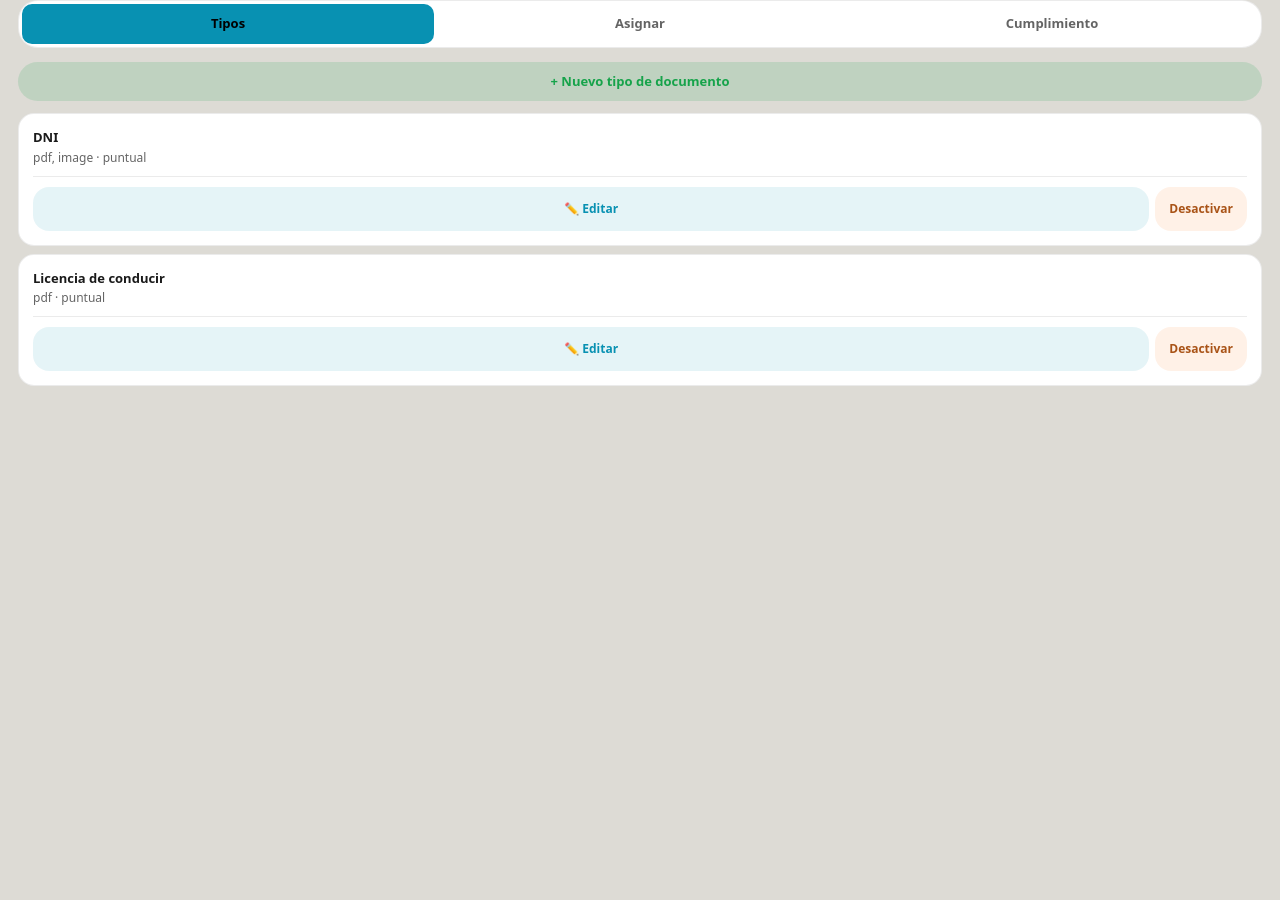
Scenario: DocumentosEmpleadoScreen — error en el DELETE de desasignación muestra el toast de error sin perder la selección pendiente
Click the button "Asignar": {"x": 640, "y": 24} top-left (434, 4), bottom-right (846, 44)
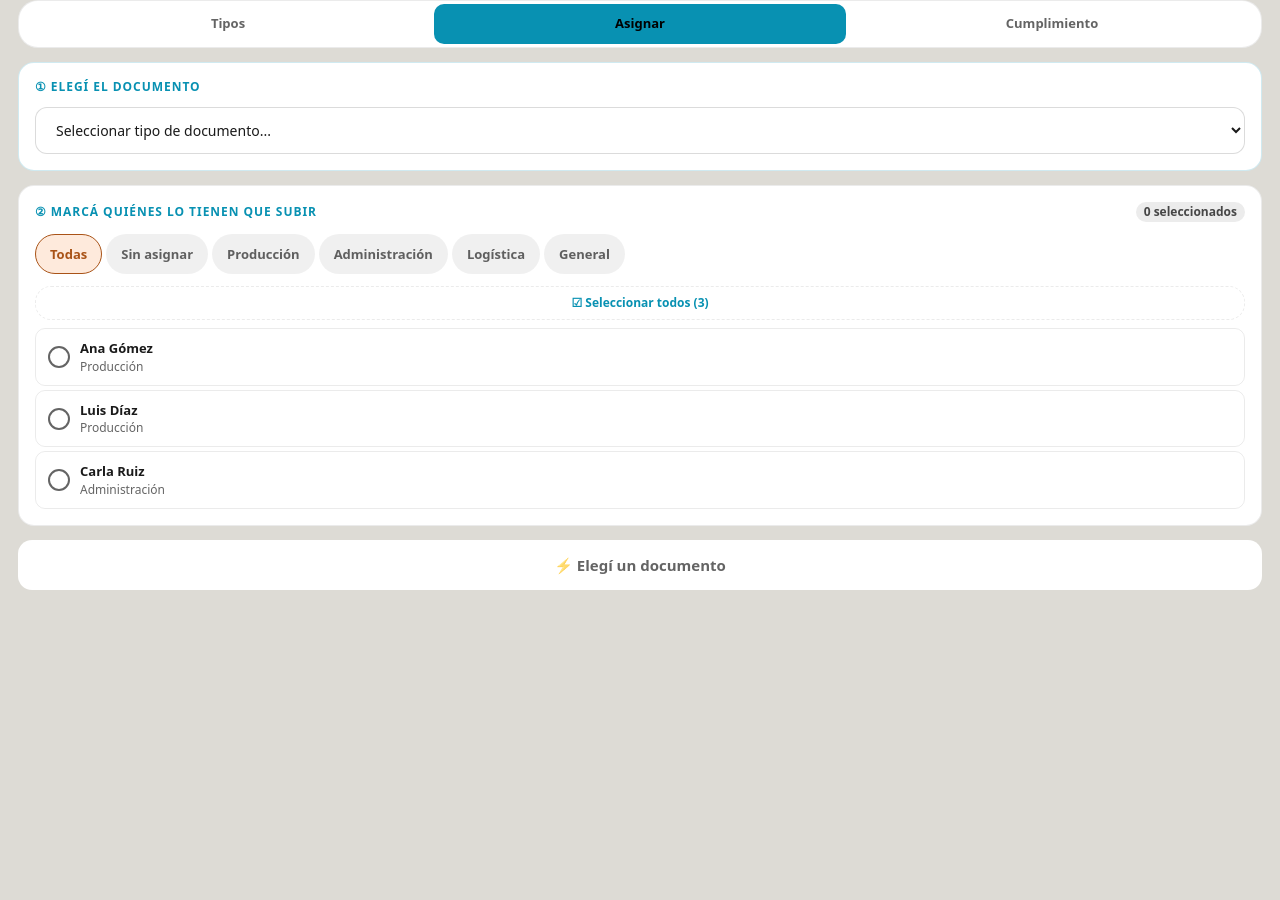
Select "DNI" in the dropdown: {"x": 640, "y": 130} top-left (35, 106), bottom-right (1245, 154)
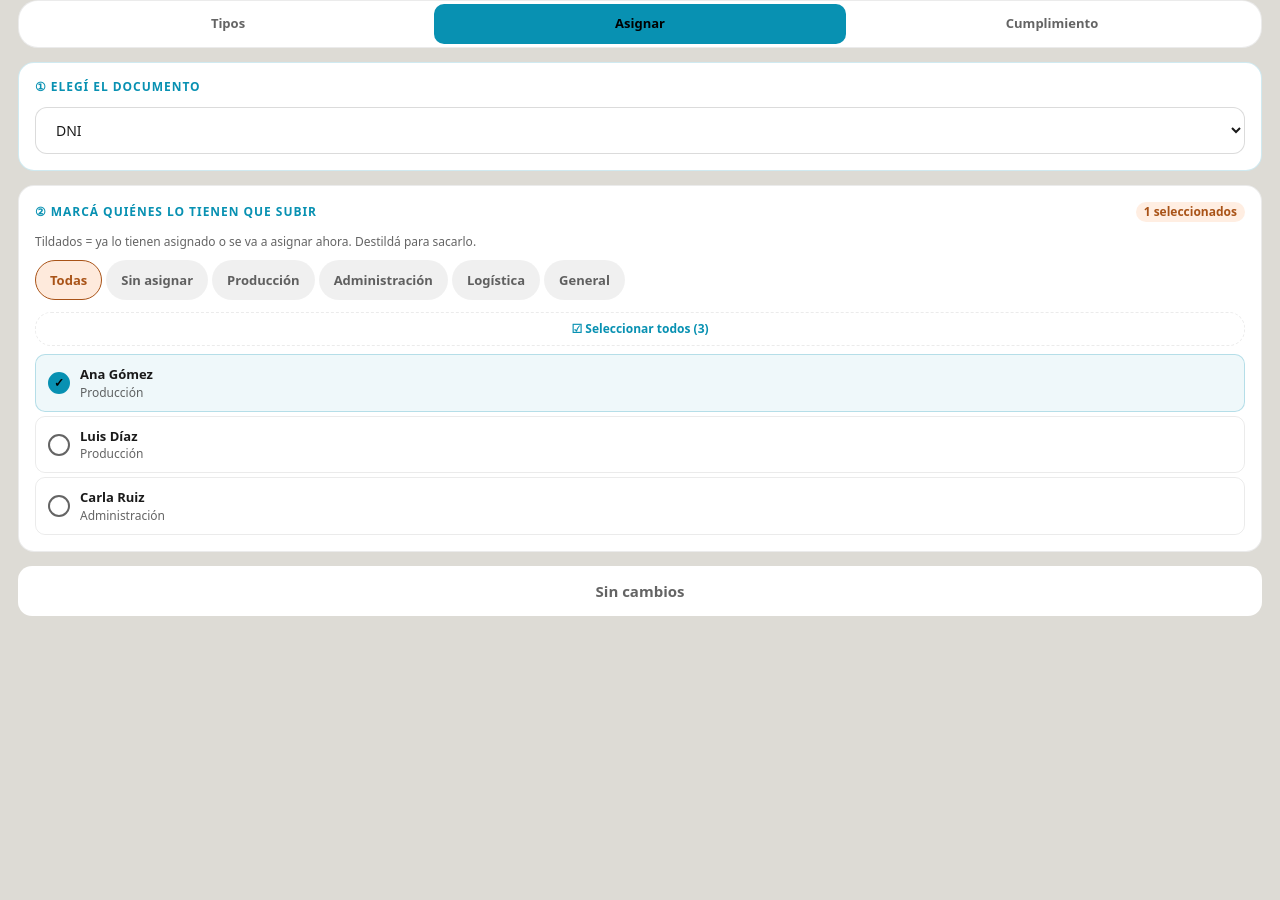
Click the button "✓ Ana Gómez Producción": {"x": 116, "y": 374} top-left (35, 354), bottom-right (1245, 412)
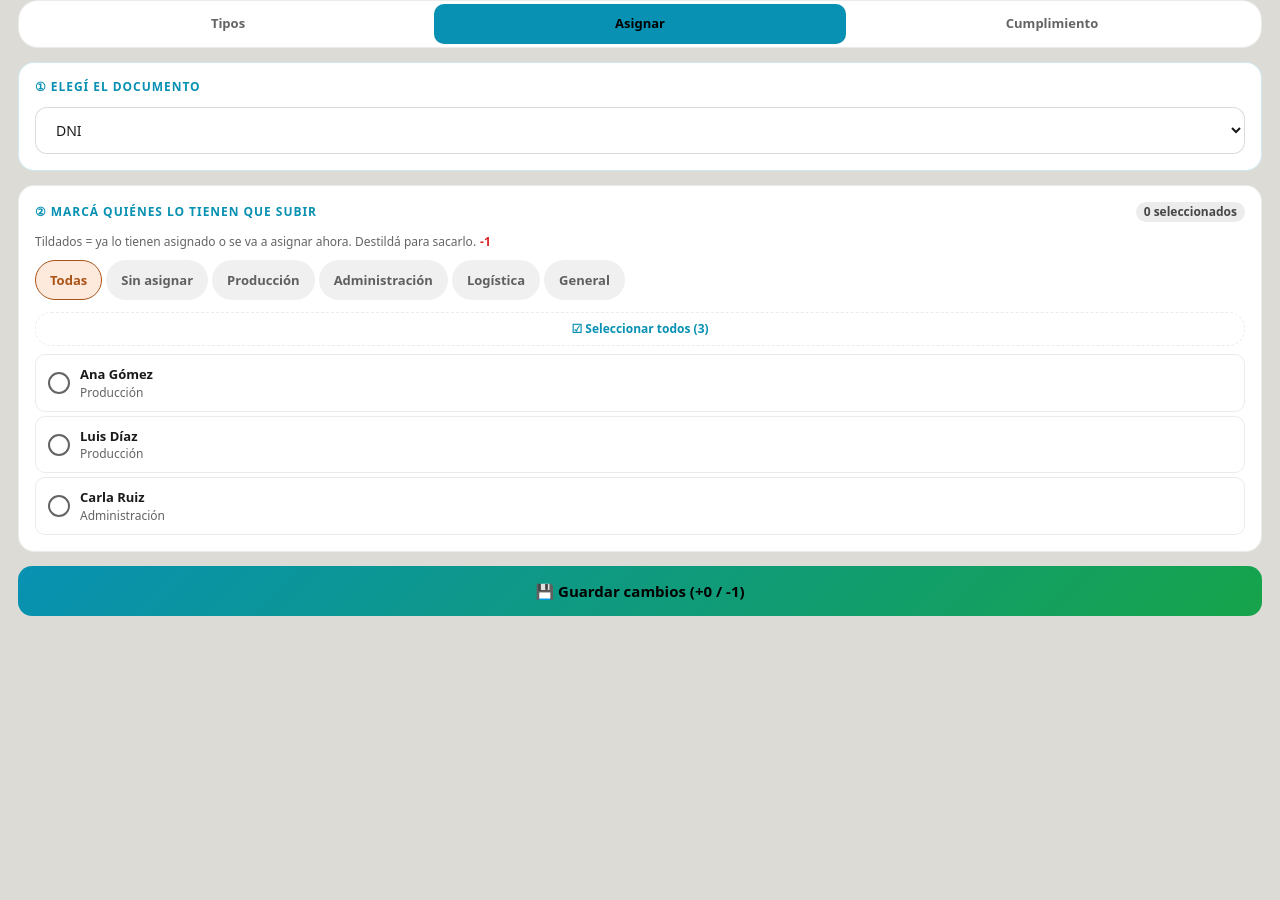
Click the button "Luis Díaz Producción": {"x": 109, "y": 436} top-left (35, 416), bottom-right (1245, 473)
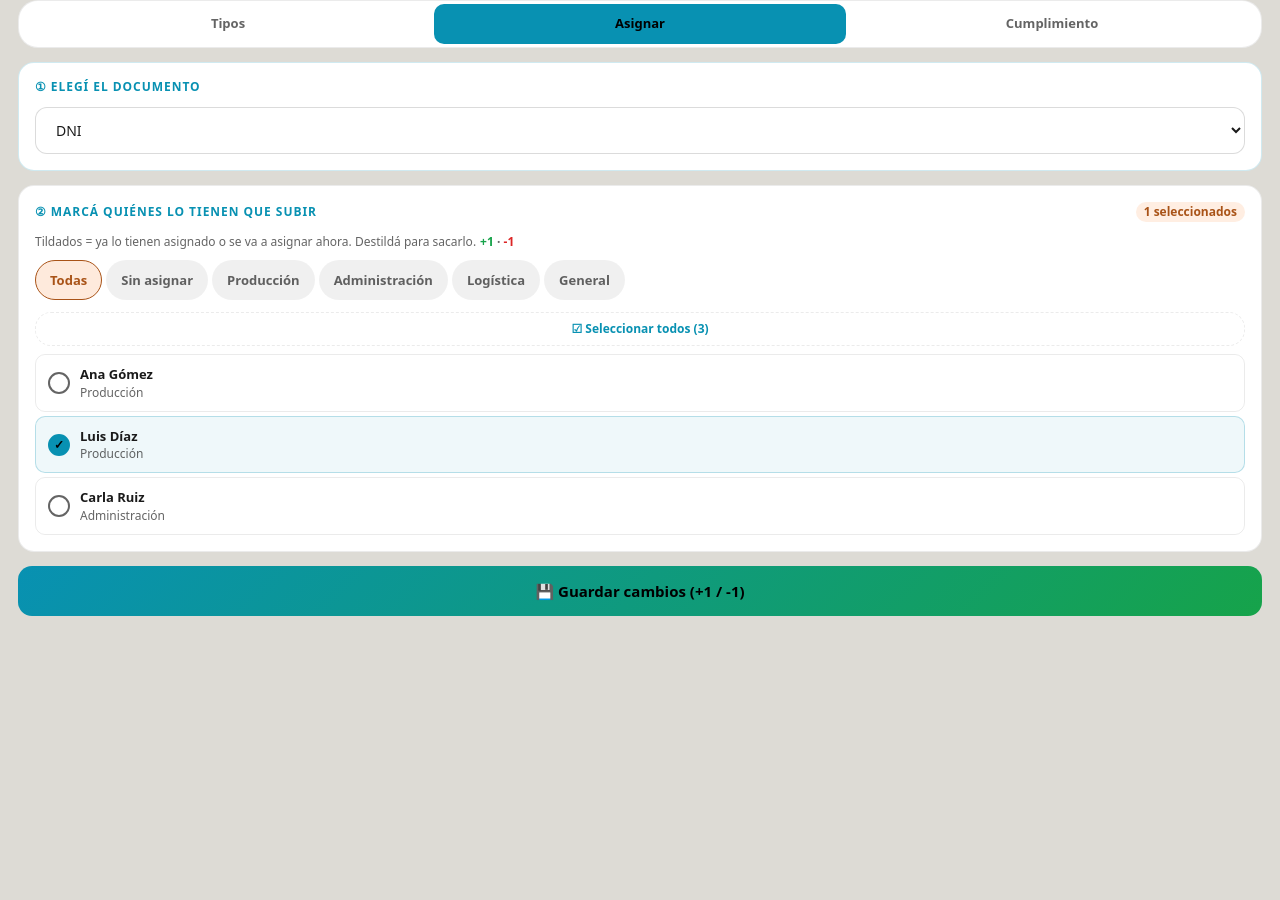
Expected: the button "💾 Guardar cambios (+1 / -1)" is shown
Click the button "💾 Guardar cambios (+1 / -1)": {"x": 640, "y": 591} top-left (18, 566), bottom-right (1262, 616)
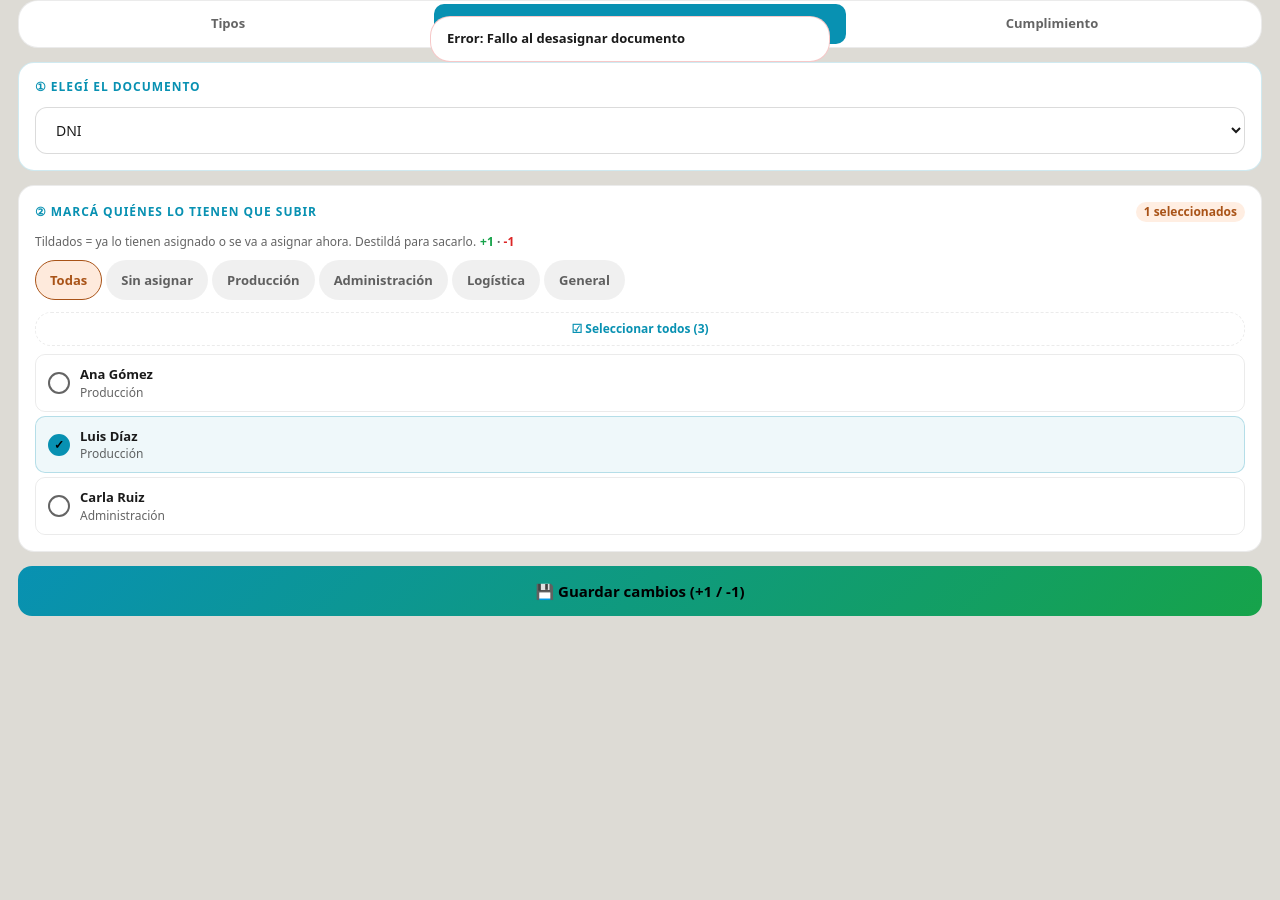
Expected: the button "💾 Guardar cambios (+1 / -1)" is shown, top-left (18, 566), bottom-right (1262, 616)
Expected: the text "Error: Fallo al desasignar documento" is shown, top-left (447, 29), bottom-right (685, 47)
